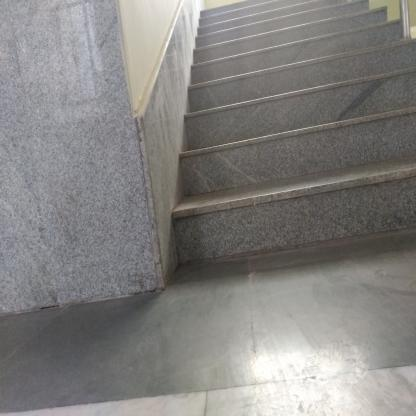stairs: (203, 16, 398, 293)
